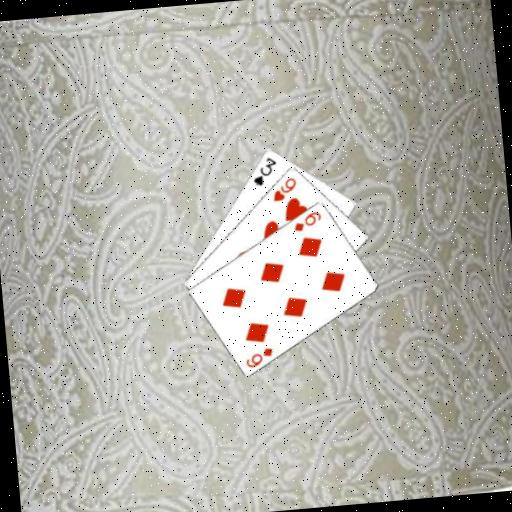3S: (248, 154, 280, 188)
6D: (290, 208, 324, 234), (242, 344, 276, 370)
9H: (268, 174, 299, 204)
